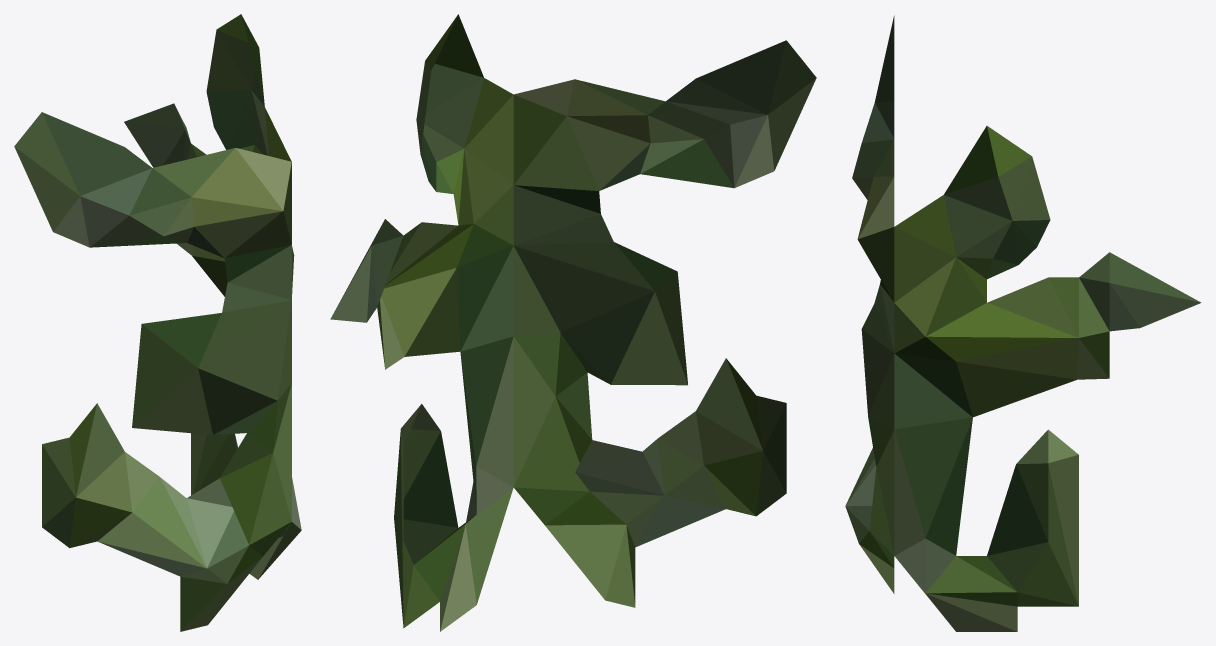
Rendered from Decal_Ivy-C.fbx.
3 renders of one model, left to right at view 1: azimuth 30°, elevation 25°; view 2: azimuth 150°, elevation 25°; view 3: azimuth 270°, elevation 25°, orthographic. The views are drawn at different scales.
Parts seen in each view (by area): view 1: Decal_Ivy-C; view 2: Decal_Ivy-C; view 3: Decal_Ivy-C.
Boxes of the visible parts, left/top/right/bottom form: Decal_Ivy-C: left=14, top=14, right=301, bottom=631; Decal_Ivy-C: left=330, top=14, right=816, bottom=631; Decal_Ivy-C: left=845, top=15, right=1201, bottom=631.
Size of the model in its own units: 229 by 398 by 254.
